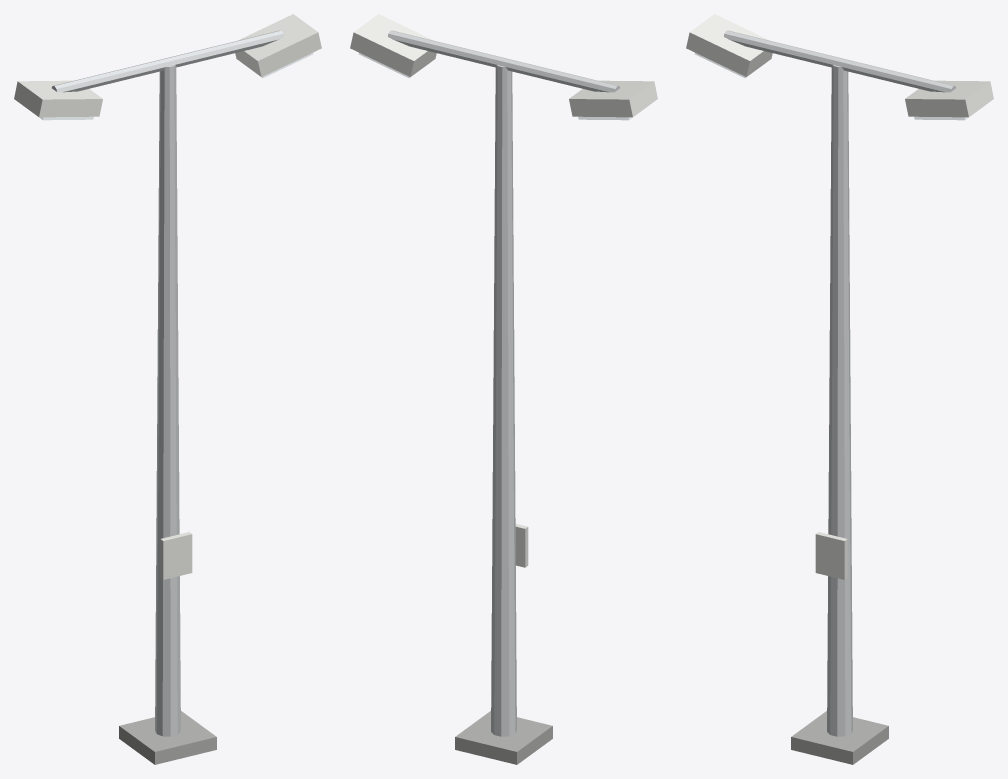
The model's file is fish-market-and-trawler-quay-fish-market-and-trawler-q-6d2aae87__37278.glb.
3 renders of one model, left to right at view 1: azimuth 30°, elevation 25°; view 2: azimuth 150°, elevation 25°; view 3: azimuth 330°, elevation 25°, orthographic.
Visible parts, largest first — view 1: fish-market-and-trawler-quay-quay-lamp-column; view 2: fish-market-and-trawler-quay-quay-lamp-column; view 3: fish-market-and-trawler-quay-quay-lamp-column.
Boxes of the visible parts, x1,y1,x2,y2 form: fish-market-and-trawler-quay-quay-lamp-column: (14,14,321,764); fish-market-and-trawler-quay-quay-lamp-column: (350,14,657,764); fish-market-and-trawler-quay-quay-lamp-column: (686,14,993,764).
Bounding box in the file's own units: 2.74 × 6.36 × 0.6.
Materials: 4 (1 with a texture image).
